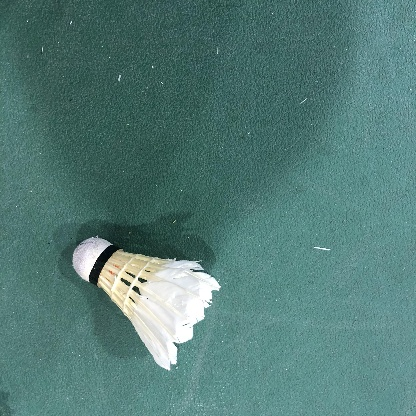ball_single: (73, 238, 221, 371)
